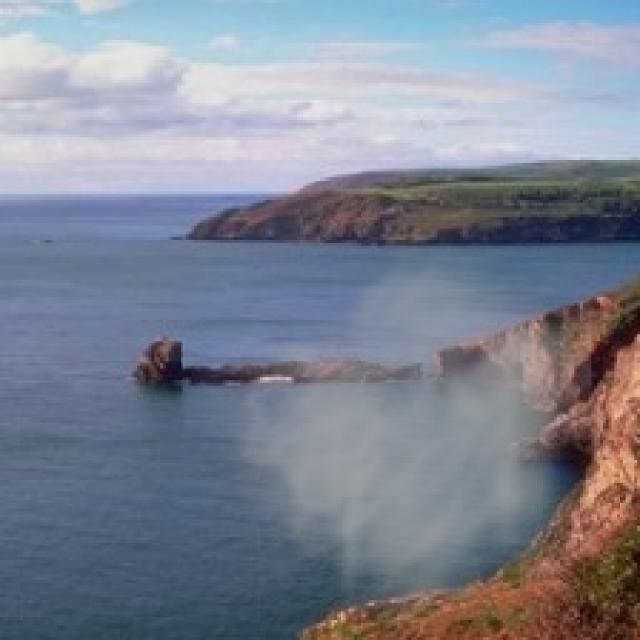Smoke: (192, 232, 592, 637)
